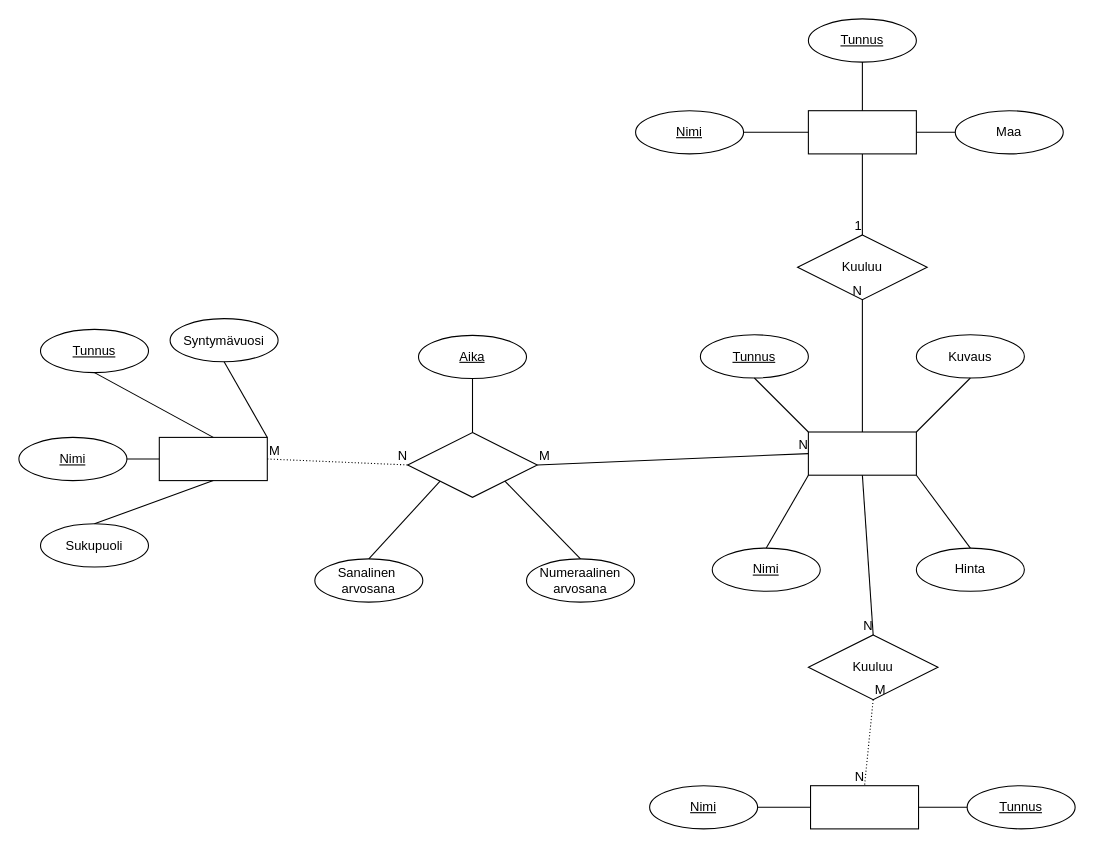
The diagram is 1094 pixels wide and 848 high, and some of its shapes have lost their labels. The shapes that lost their labels are listed below. From the top down, each one's box as (x1, y1, x2, y2) in pixels, then its label:
(807, 110, 916, 154): Tuotemerkki
(158, 436, 267, 481): Käyttäjä
(407, 431, 537, 497): Arvostelee
(807, 431, 916, 475): Tuote
(809, 785, 919, 829): Kategoria
